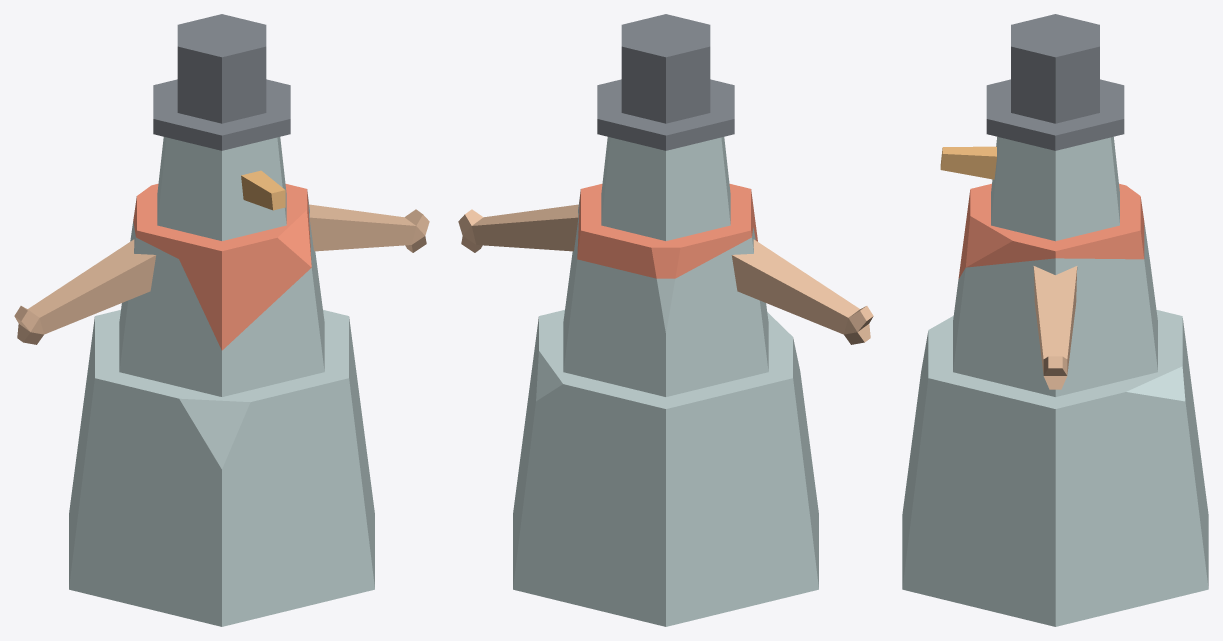
File: snowmanFancy.glb
3 views of the same model, side by side, from view 1: azimuth 30°, elevation 25°; view 2: azimuth 150°, elevation 25°; view 3: azimuth 270°, elevation 25° (orthographic).
Visible parts, largest first — view 1: snowmanFancy(Clone); view 2: snowmanFancy(Clone); view 3: snowmanFancy(Clone).
Part boxes in pixels (x1,y1,x2,y2): snowmanFancy(Clone): [14, 14, 429, 626]; snowmanFancy(Clone): [458, 14, 873, 626]; snowmanFancy(Clone): [902, 14, 1208, 626].
Size of the model in its own units: 0.6934 by 0.8381 by 0.4503.
